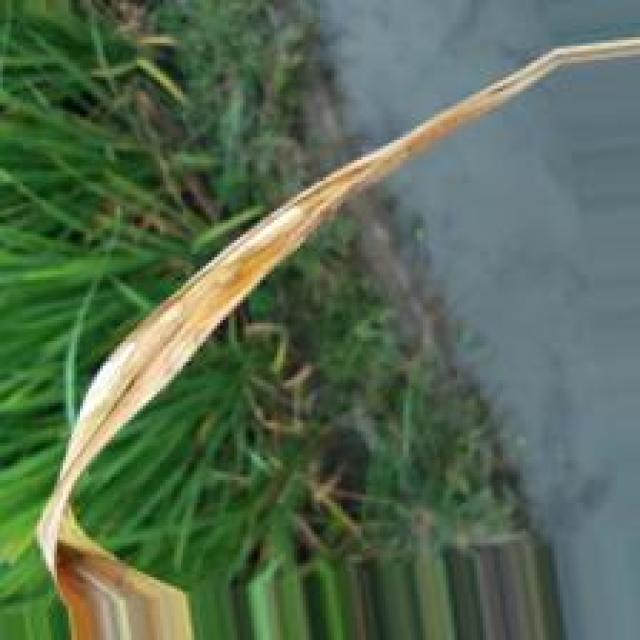Leaf_Scald: (39, 81, 514, 637)
